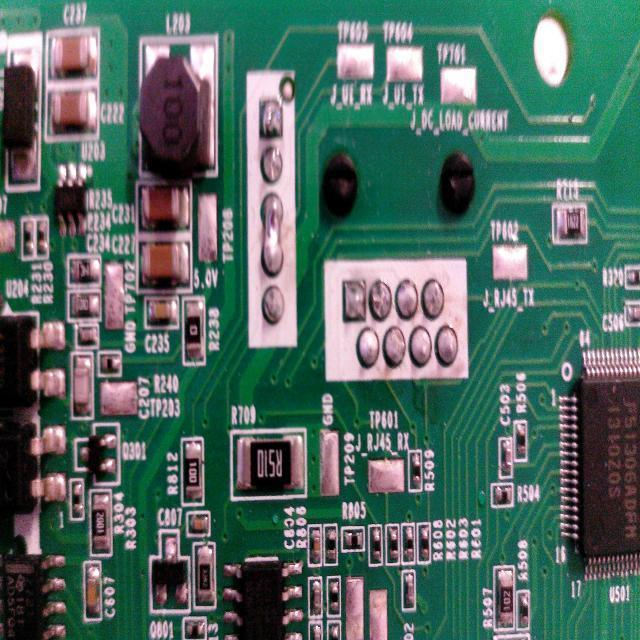Soldering shorted: (261, 188, 287, 280)
